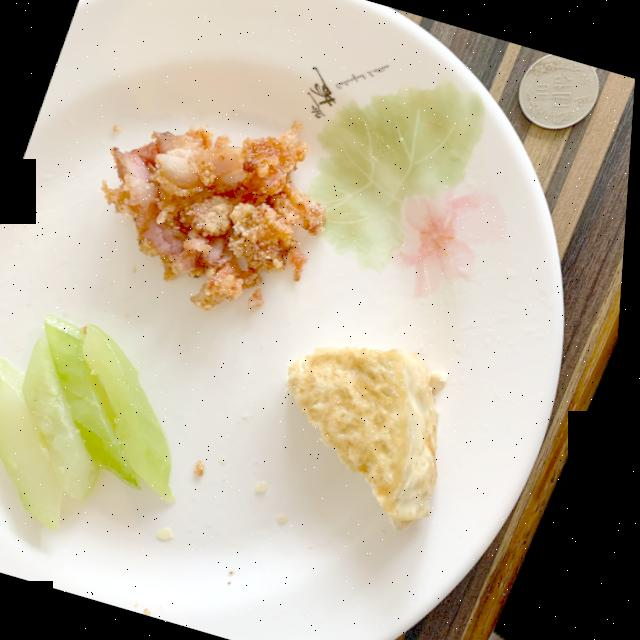coin: (519, 54, 599, 129)
red grilled pork: (105, 121, 329, 310)
